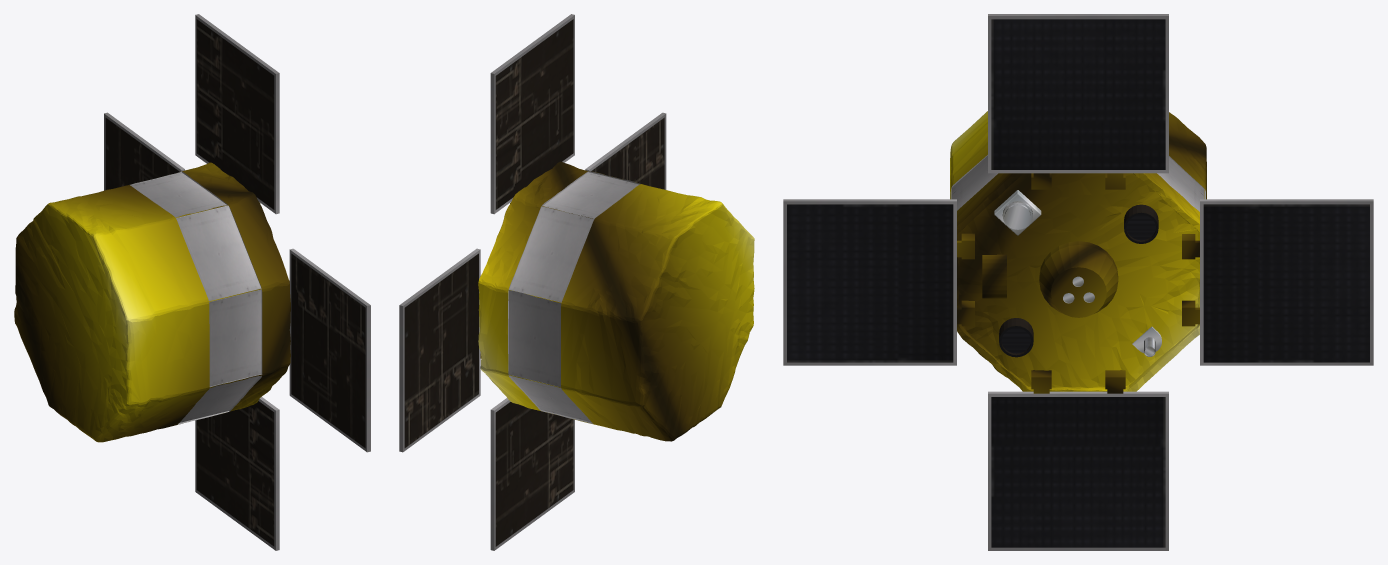
The model's file is relay.obj.
The picture shows the model from 3 angles, left to right: view 1: azimuth 30°, elevation 25°; view 2: azimuth 150°, elevation 25°; view 3: azimuth 270°, elevation 25°; orthographic projection. The views are drawn at different scales.
Bounding box in the file's own units: 0.7335 × 1.8 × 1.8.
Materials: 1 (1 with a texture image).
